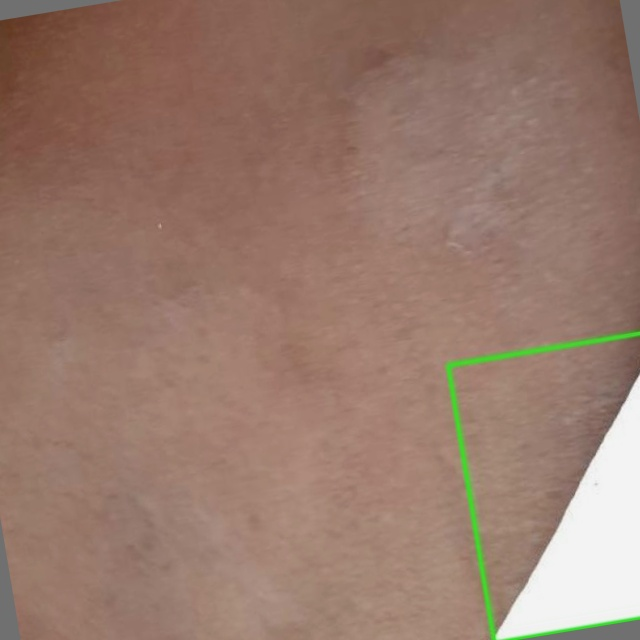Tinea Corporis: (448, 333, 639, 639)
